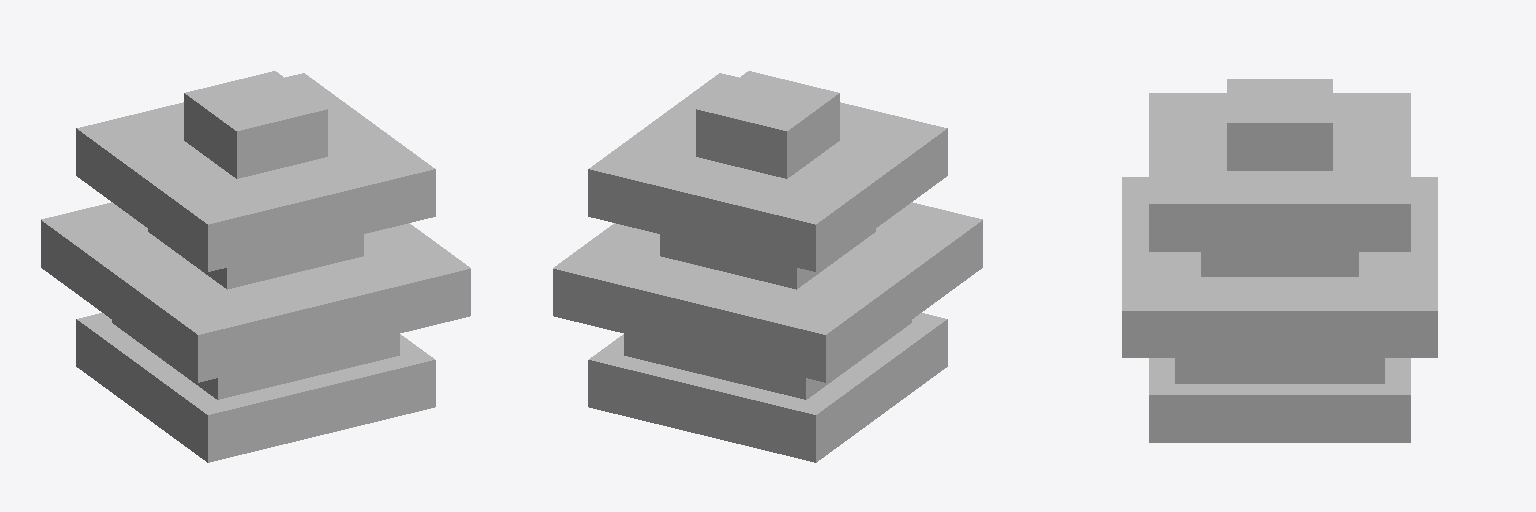
File: Bush4.obj
3 renders of one model, left to right at view 1: azimuth 30°, elevation 25°; view 2: azimuth 150°, elevation 25°; view 3: azimuth 270°, elevation 25°, orthographic.
Size of the model in its own units: 12 by 13 by 12.